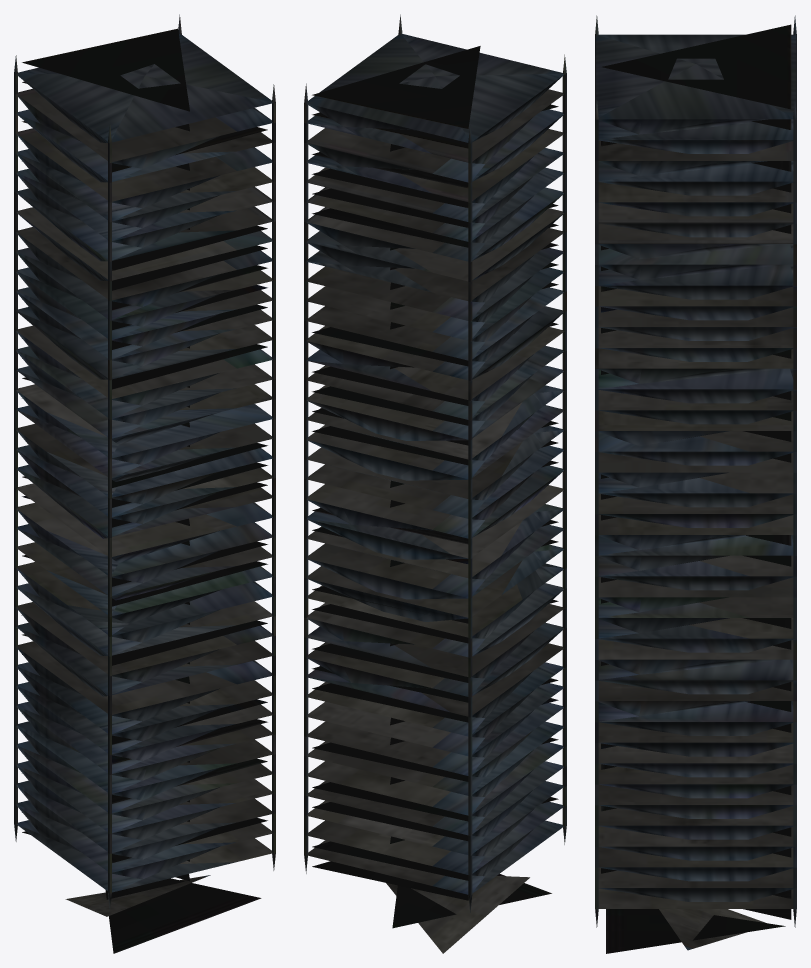
The model's file is city_tower_4.glb.
The picture shows the model from 3 angles, left to right: view 1: azimuth 30°, elevation 25°; view 2: azimuth 150°, elevation 25°; view 3: azimuth 270°, elevation 25°; orthographic projection. The views are drawn at different scales.
Visible parts, largest first — view 1: CityTower4; view 2: CityTower4; view 3: CityTower4.
Part boxes in pixels (x1,y1,x2,y2): CityTower4: (14,14,275,953); CityTower4: (304,14,566,953); CityTower4: (595,15,796,953).
Bounding box in the file's own units: 20.29 × 98.63 × 20.23.
Materials: 1 (1 with a texture image).
